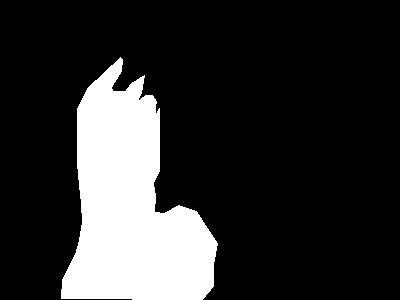Fire: (67, 56, 231, 300)
